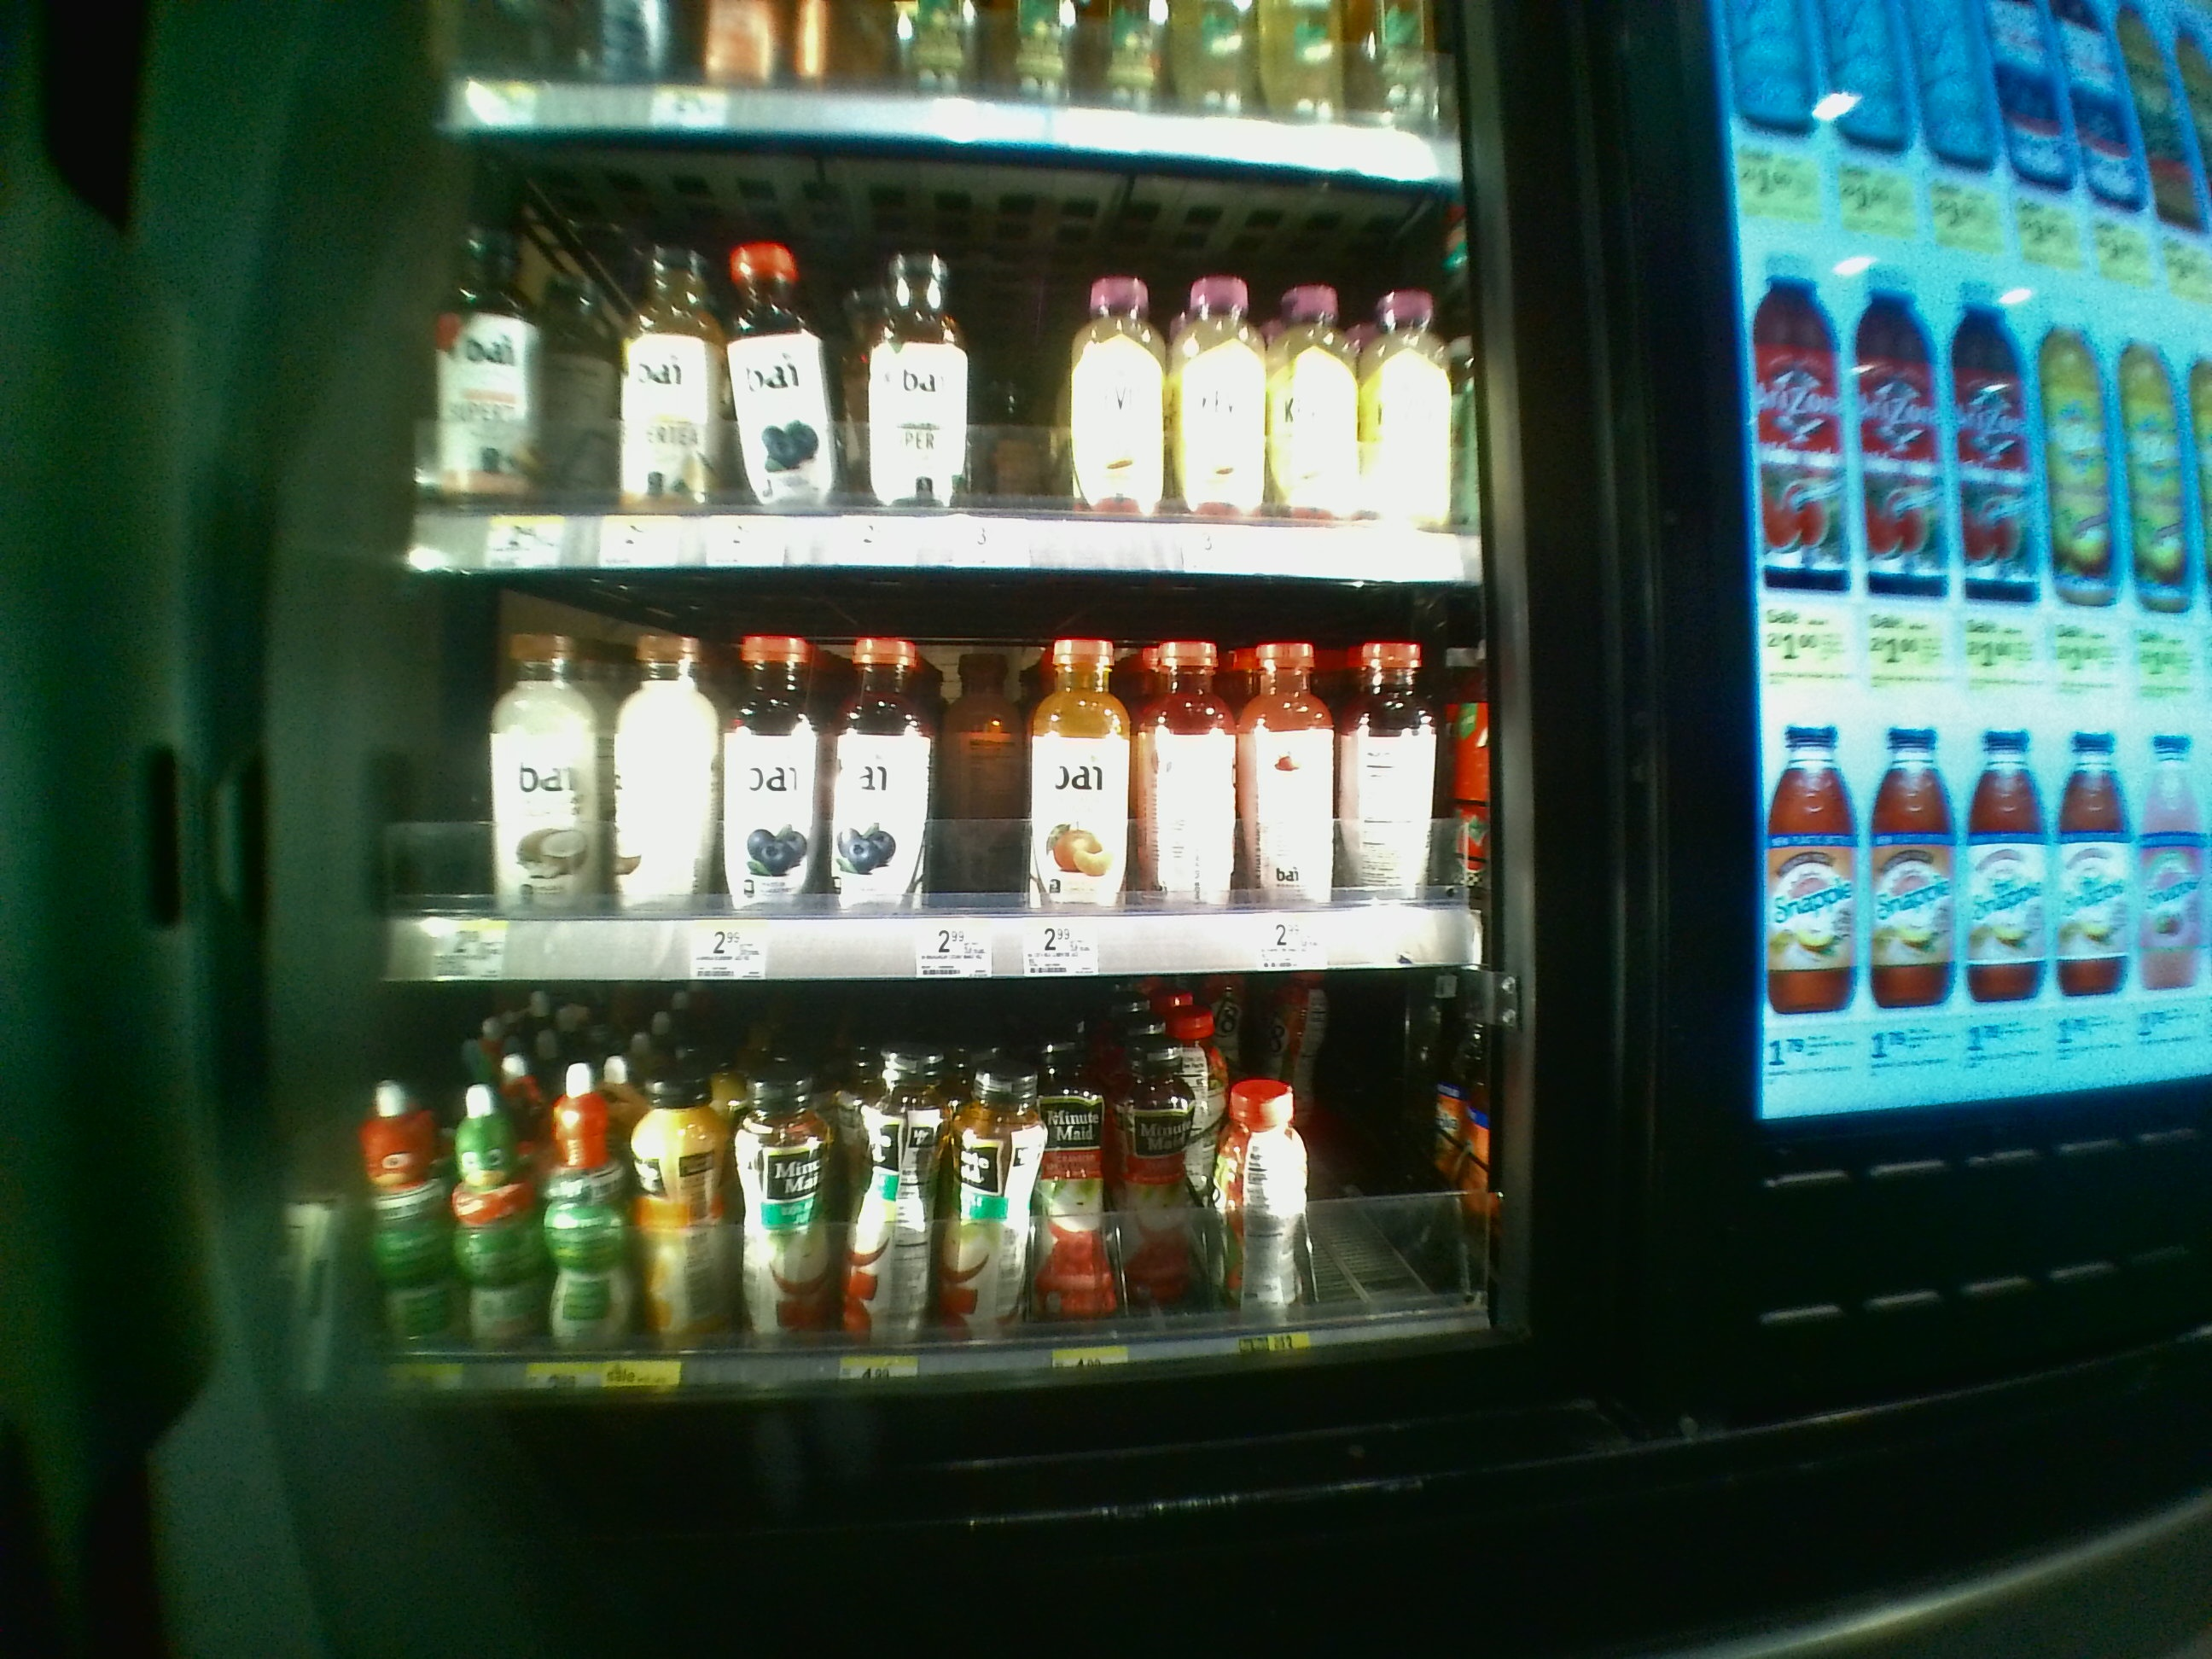shelf: (406, 139, 1480, 579), (371, 993, 1508, 1406), (387, 592, 1493, 983)
